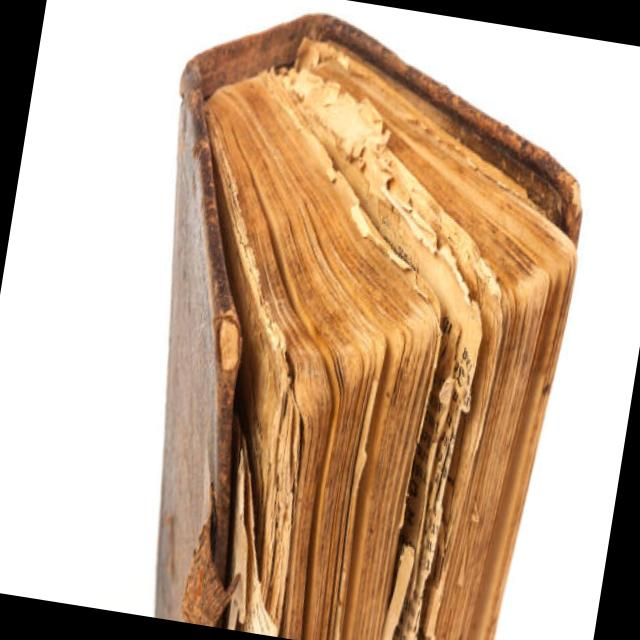electronic: (97, 0, 611, 640)
